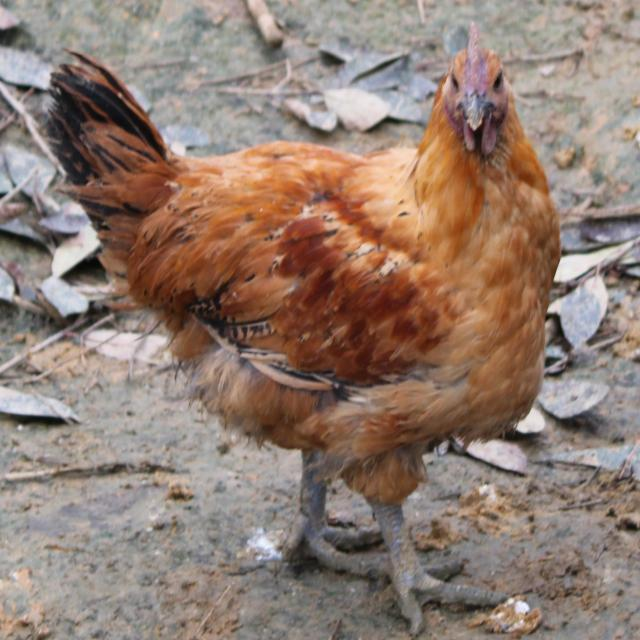hen: (49, 27, 560, 635)
